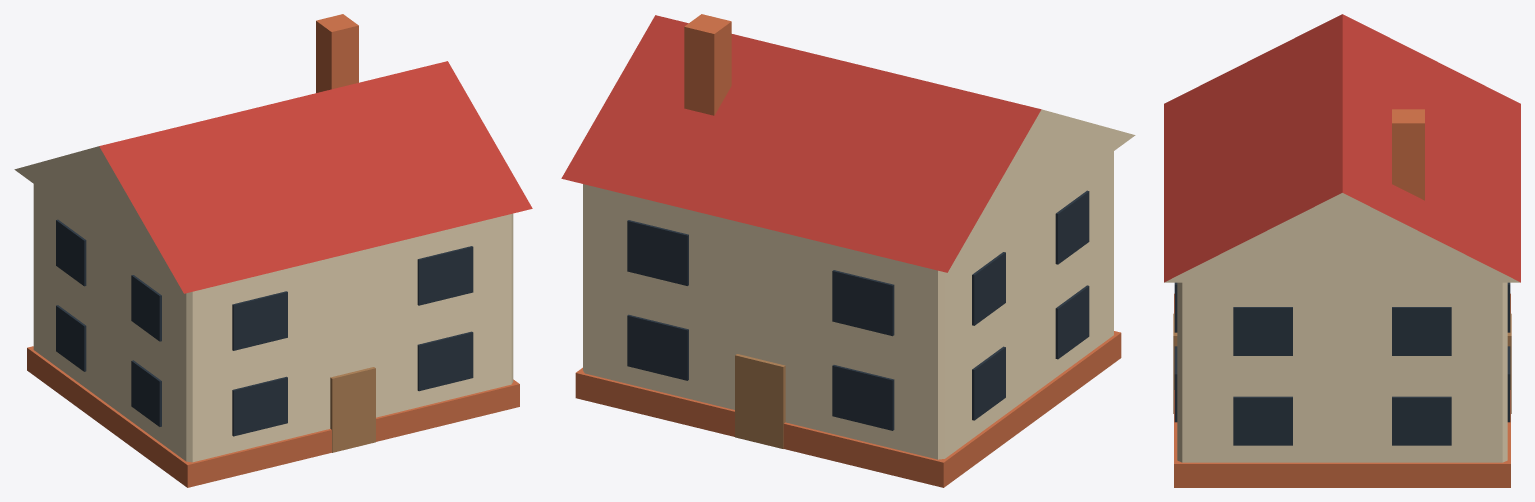
File: d_house_a.fbx
3 renders of one model, left to right at view 1: azimuth 30°, elevation 25°; view 2: azimuth 150°, elevation 25°; view 3: azimuth 270°, elevation 25°, orthographic. The views are drawn at different scales.
Parts seen in each view (by area): view 1: d_house_a; view 2: d_house_a; view 3: d_house_a.
Boxes of the visible parts, bbox=[...] form: d_house_a: bbox=[14, 14, 532, 487]; d_house_a: bbox=[561, 14, 1135, 487]; d_house_a: bbox=[1164, 14, 1520, 487].
Size of the model in its own units: 12.8 by 11.2 by 10.8.
